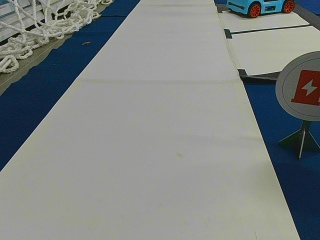battery: (276, 50, 319, 122)
car: (227, 0, 294, 17)
